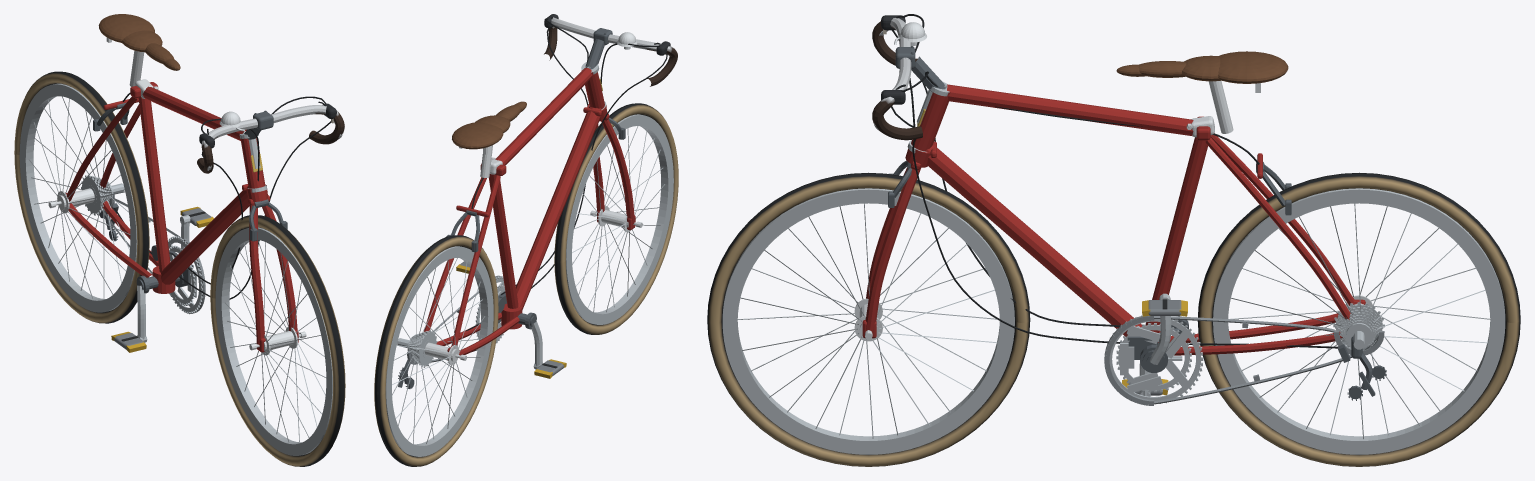
Rendered from bicycle.glb.
3 renders of one model, left to right at view 1: azimuth 30°, elevation 25°; view 2: azimuth 150°, elevation 25°; view 3: azimuth 270°, elevation 25°, orthographic. The views are drawn at different scales.
Parts seen in each view (by area): view 1: frame, front_rim, rear_rim, front_tyre, rear_tyre, front_spokes, rear_spokes, fork, saddle, handlebar, crankset, cables (+10 smaller); view 2: frame, front_rim, rear_rim, rear_tyre, front_tyre, front_spokes, rear_spokes, saddle, fork, handlebar, cables, cassette (+7 smaller); view 3: frame, front_rim, rear_rim, front_tyre, rear_tyre, crankset, front_spokes, rear_spokes, saddle, chain, fork, cables (+6 smaller).
Boxes of the visible parts, <box> form: frame: <box>65,82,265,293</box>; front_rim: <box>215,227,332,455</box>; rear_rim: <box>19,83,137,312</box>; front_tyre: <box>210,215,345,466</box>; rear_tyre: <box>14,71,149,323</box>; front_spokes: <box>225,240,326,442</box>; rear_spokes: <box>28,96,130,299</box>; fork: <box>246,184,298,352</box>; saddle: <box>98,14,180,70</box>; handlebar: <box>197,105,344,173</box>; crankset: <box>137,215,202,342</box>; cables: <box>114,93,330,299</box>; frame: <box>424,68,604,360</box>; front_rim: <box>565,114,673,324</box>; rear_rim: <box>385,246,493,456</box>; rear_tyre: <box>374,235,498,466</box>; front_tyre: <box>554,103,678,334</box>; front_spokes: <box>572,126,665,312</box>; rear_spokes: <box>392,258,485,443</box>; saddle: <box>452,101,526,149</box>; fork: <box>587,104,635,230</box>; handlebar: <box>544,17,677,86</box>; cables: <box>465,18,667,331</box>; cassette: <box>397,330,437,367</box>; frame: <box>911,84,1365,355</box>; front_rim: <box>722,188,1014,454</box>; rear_rim: <box>1213,188,1505,454</box>; front_tyre: <box>707,172,1030,466</box>; rear_tyre: <box>1197,172,1520,466</box>; crankset: <box>1107,293,1203,403</box>; front_spokes: <box>737,203,997,438</box>; rear_spokes: <box>1228,203,1490,439</box>; saddle: <box>1116,51,1288,83</box>; chain: <box>1104,316,1384,405</box>; fork: <box>862,148,930,338</box>; cables: <box>891,14,1337,348</box>.
Bounding box in the file's own units: 0.4288 × 0.9945 × 1.73.
